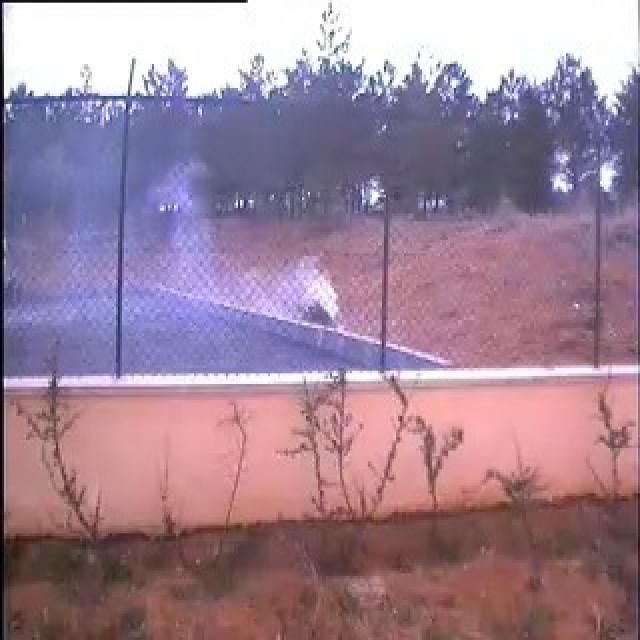smoke: (86, 129, 342, 373)
